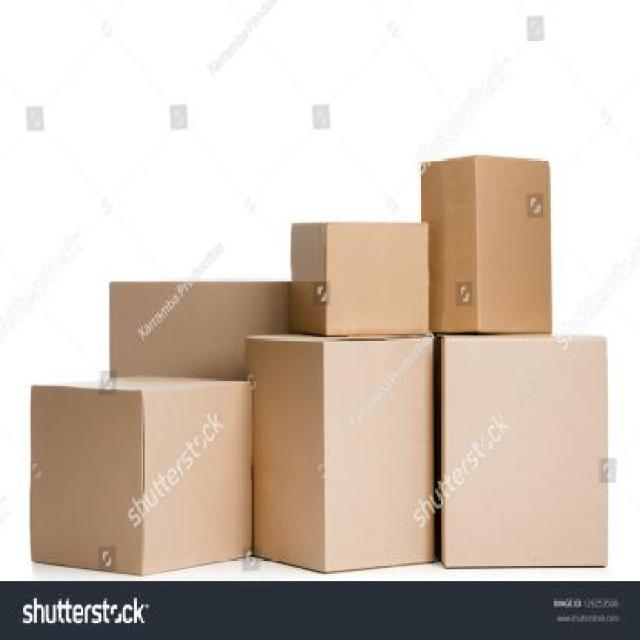BoxFace: (439, 334, 610, 572), (320, 334, 436, 576), (27, 384, 144, 578), (109, 278, 291, 382), (476, 153, 552, 339), (324, 220, 432, 342)
